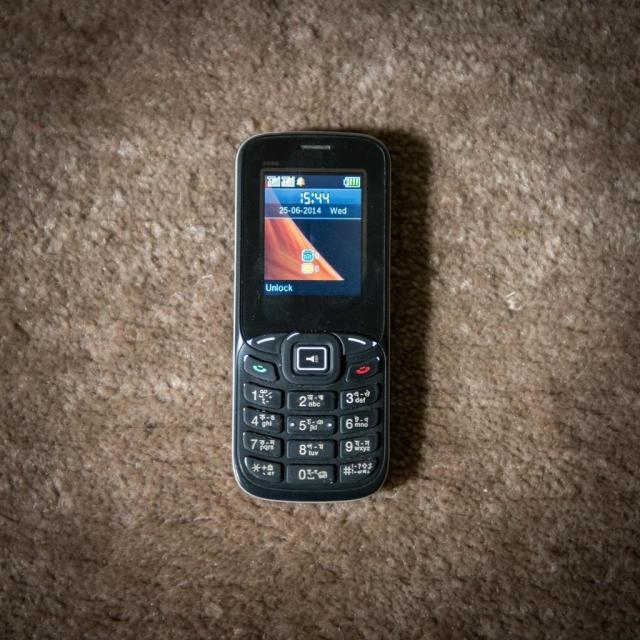Phone: (230, 127, 394, 503)
